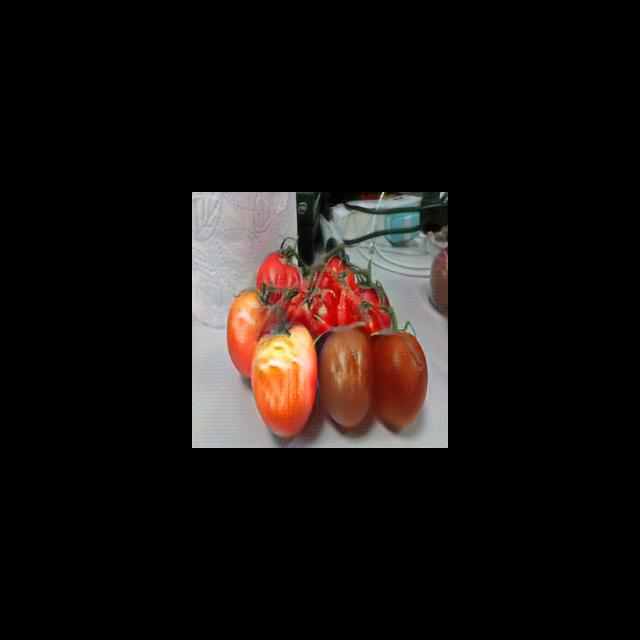tomato: (252, 325, 318, 437), (320, 331, 373, 426), (231, 292, 264, 373)
